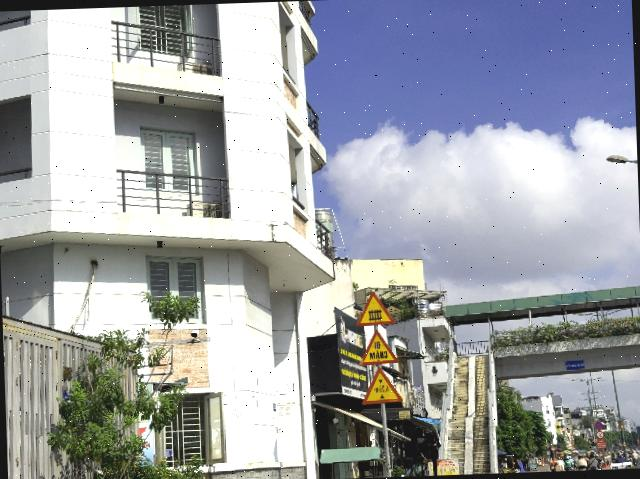chieu-cao-tinh-khong-thuc-te: (361, 366, 404, 405)
di-cham: (358, 328, 398, 366)
noi-giao-nhau-voi-duong-sat-co-rao-chan: (354, 290, 396, 328)
